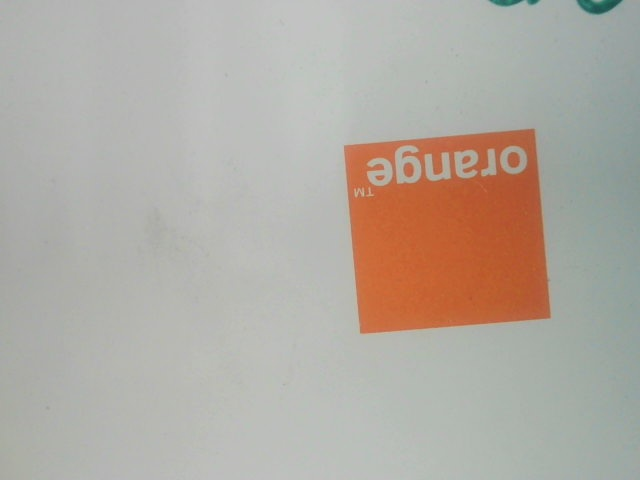AR_Orange: (334, 127, 561, 338)
